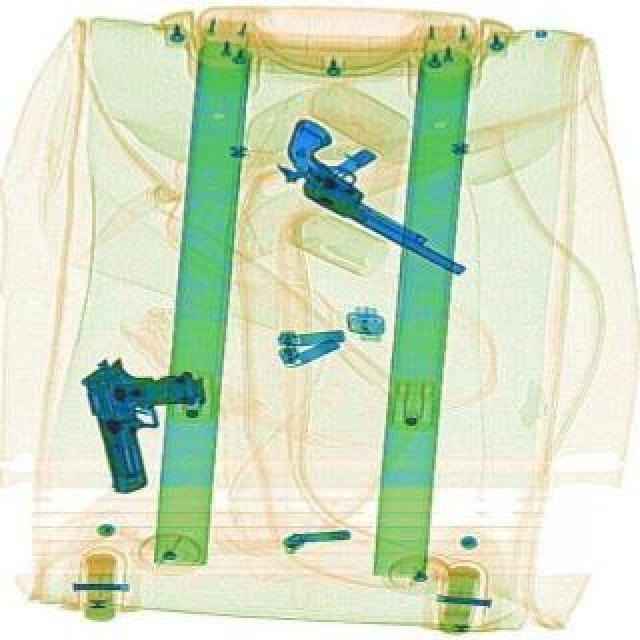gun: (262, 112, 494, 278), (74, 344, 222, 496)
